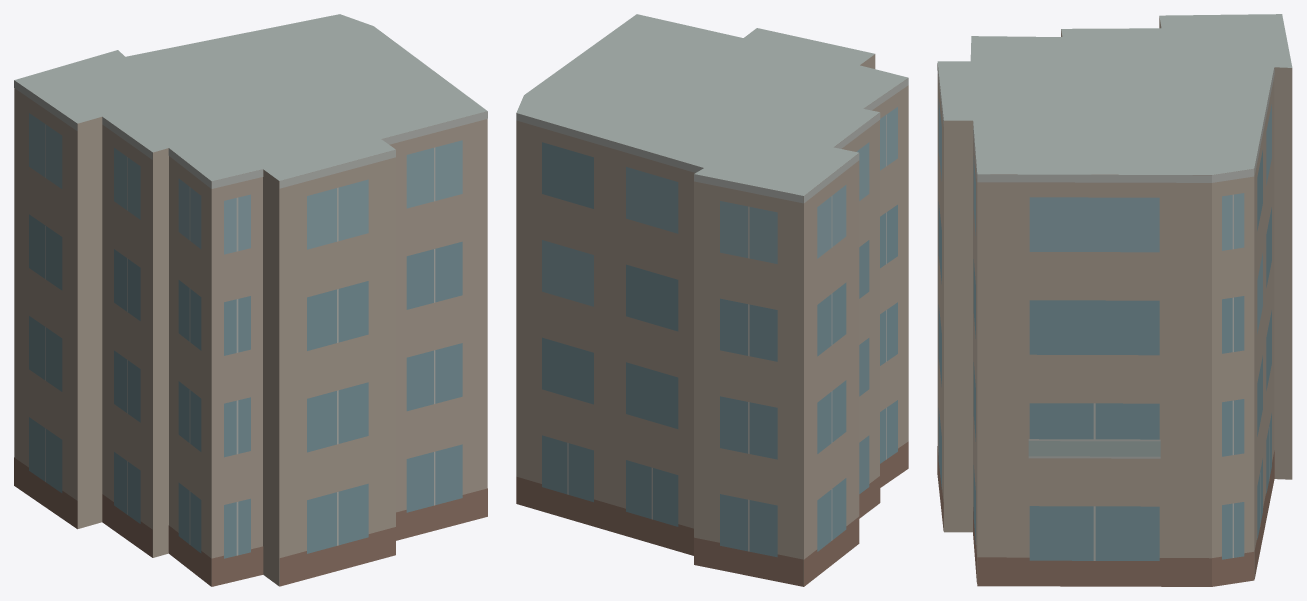
The model's file is survey-upis-32513329.glb.
3 views of the same model, side by side, from view 1: azimuth 30°, elevation 25°; view 2: azimuth 150°, elevation 25°; view 3: azimuth 270°, elevation 25° (orthographic). The views are drawn at different scales.
Visible parts, largest first — view 1: survey-upis-32513329.tmp; view 2: survey-upis-32513329.tmp; view 3: survey-upis-32513329.tmp.
Boxes of the visible parts, bbox=[...] form: survey-upis-32513329.tmp: bbox=[14, 14, 487, 586]; survey-upis-32513329.tmp: bbox=[516, 14, 908, 586]; survey-upis-32513329.tmp: bbox=[937, 14, 1292, 586].
Bounding box in the file's own units: 10.77 × 12.8 × 10.01.
